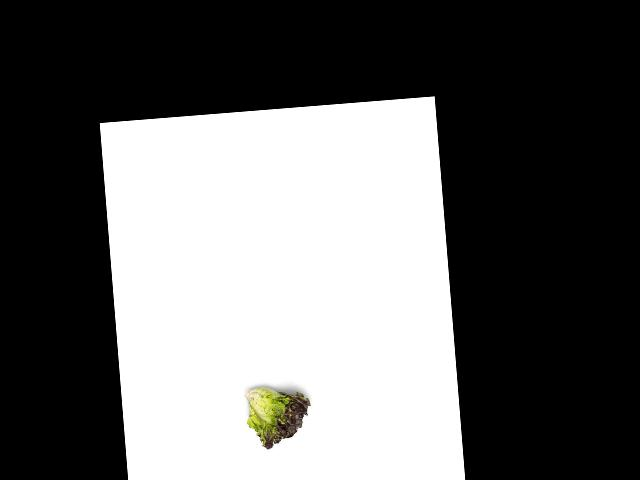lettuce: (242, 382, 317, 449)
